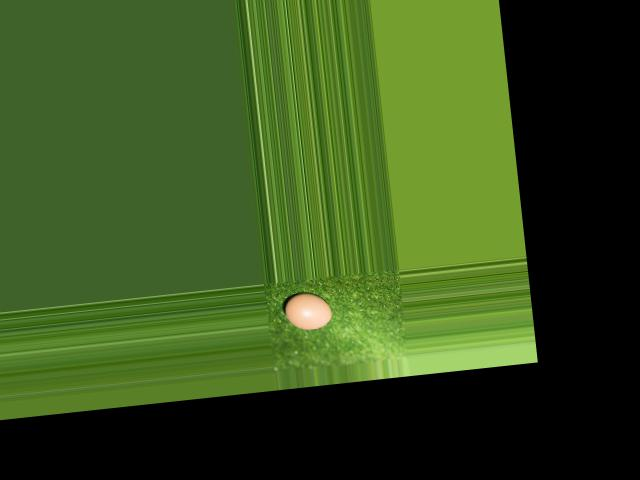egg: (283, 289, 334, 331)
